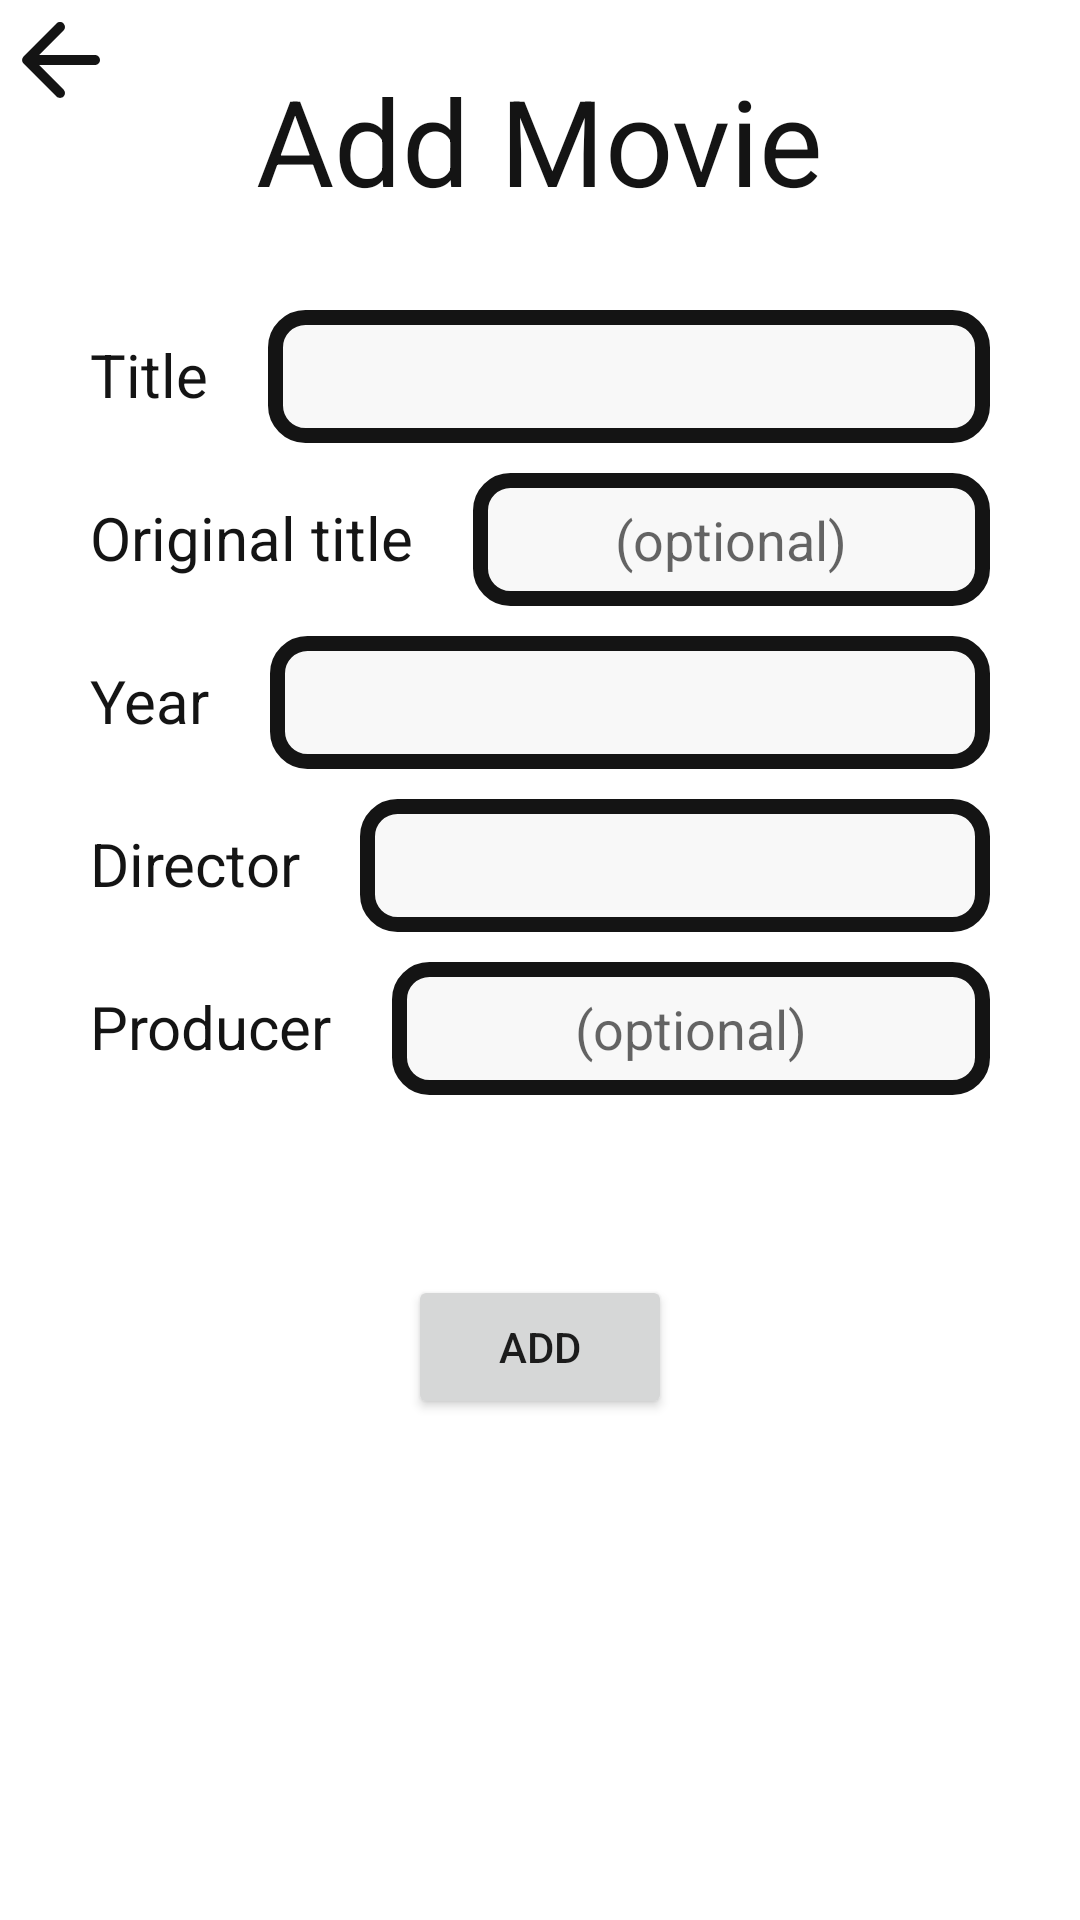

Screen size 1080w x 1920h. Icon name, then its box in pixels as (x1, y1, x2, y2):
arrow back: (22, 22, 100, 98)
